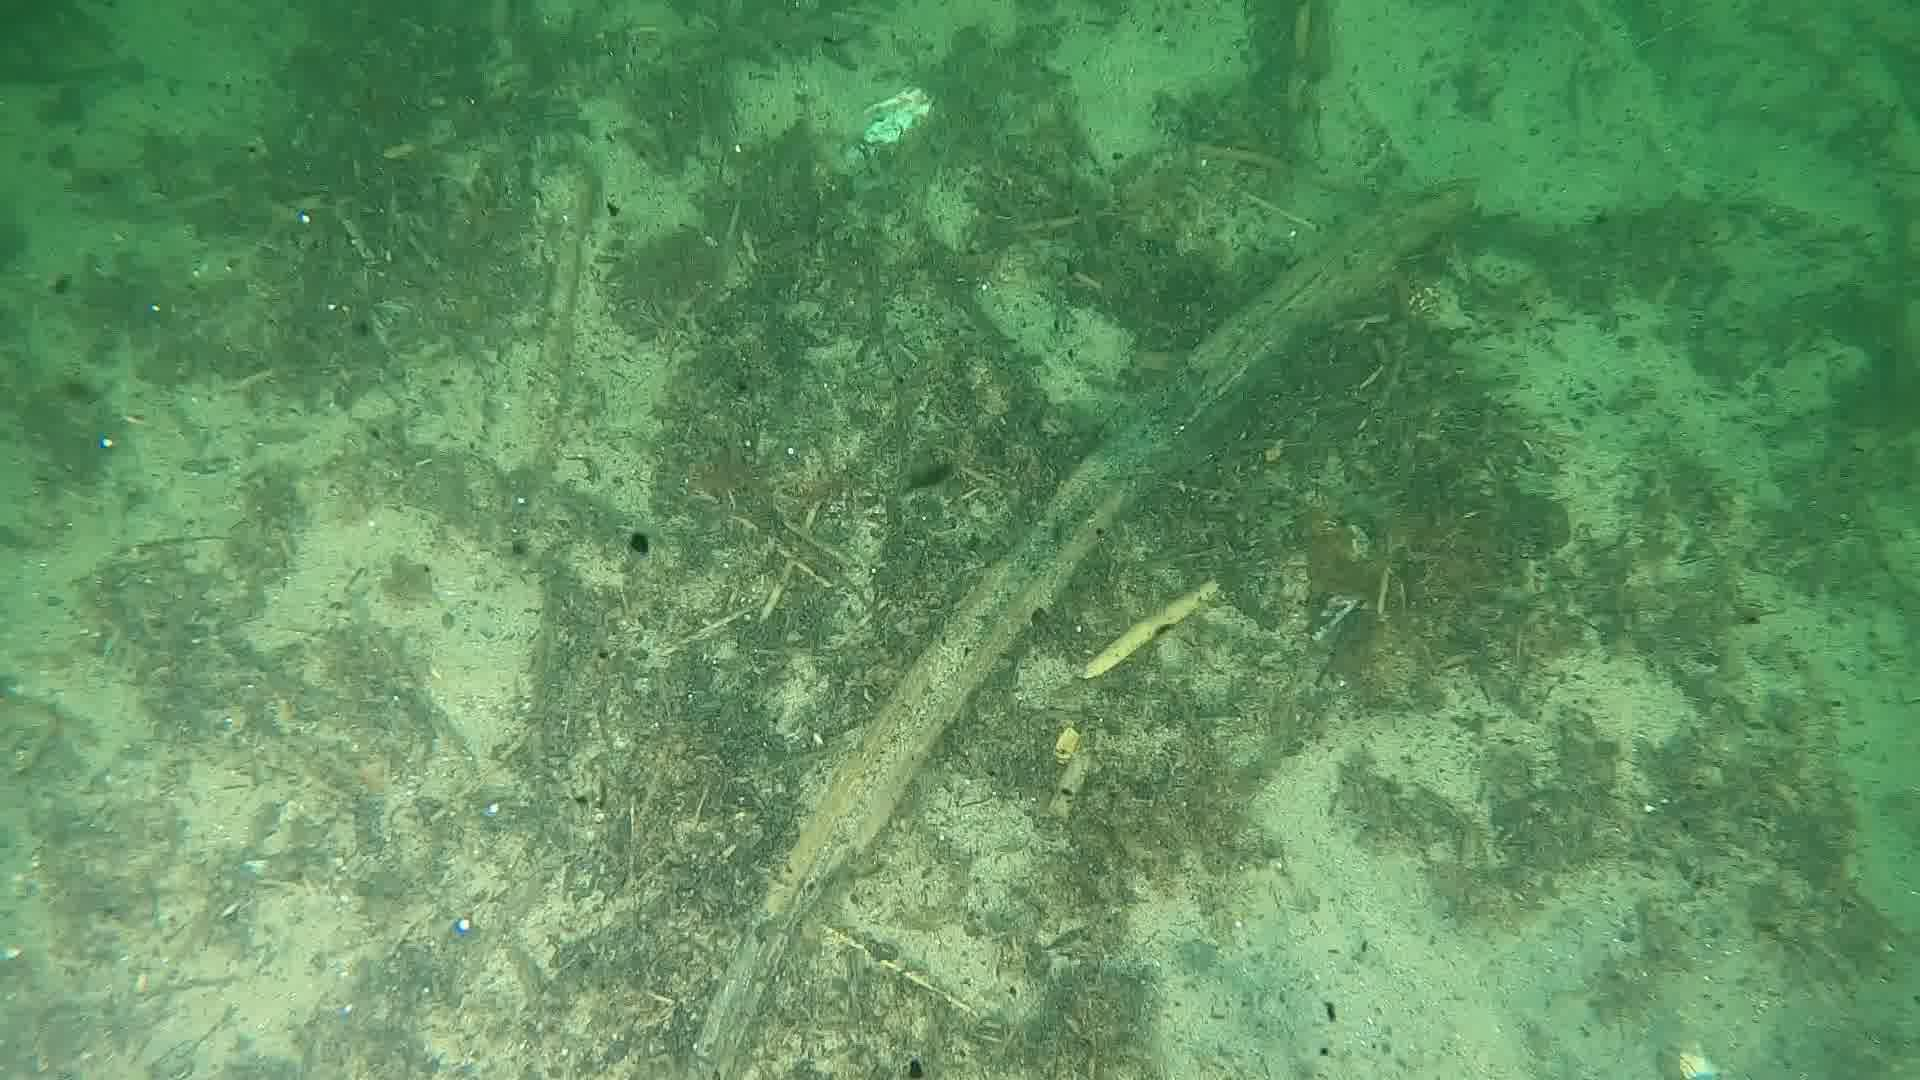wood: (682, 177, 1480, 1080)
